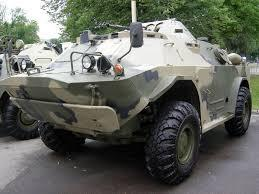tank: (7, 8, 259, 183)
